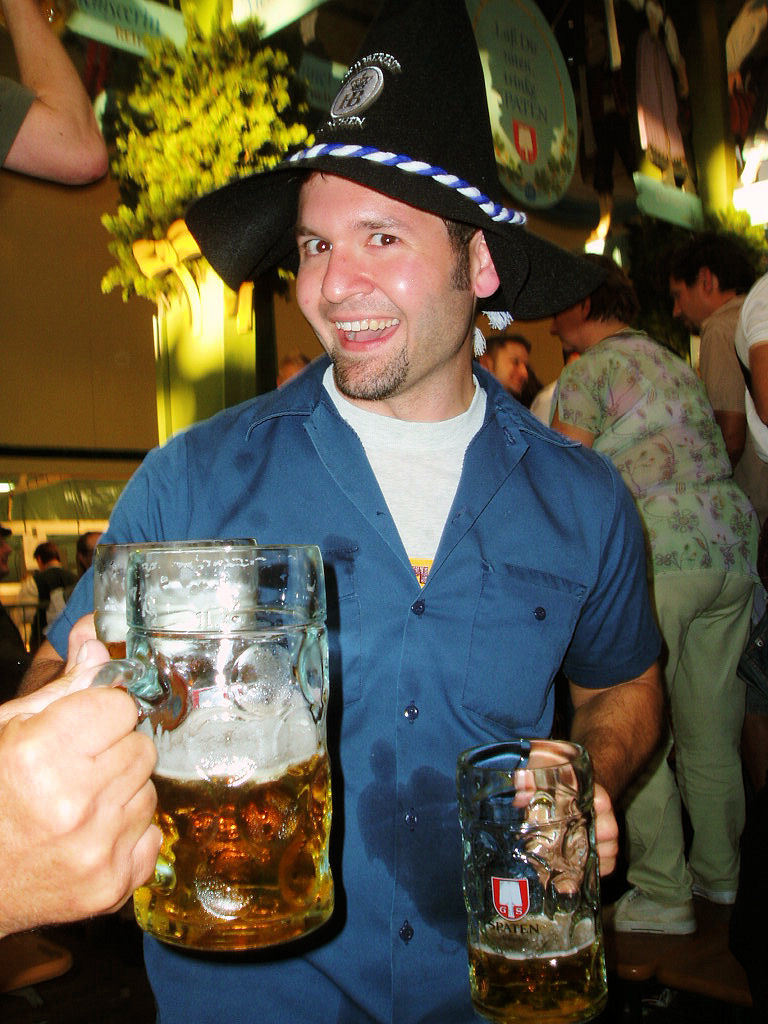Beer: (129, 686, 336, 952), (463, 913, 622, 1015)
